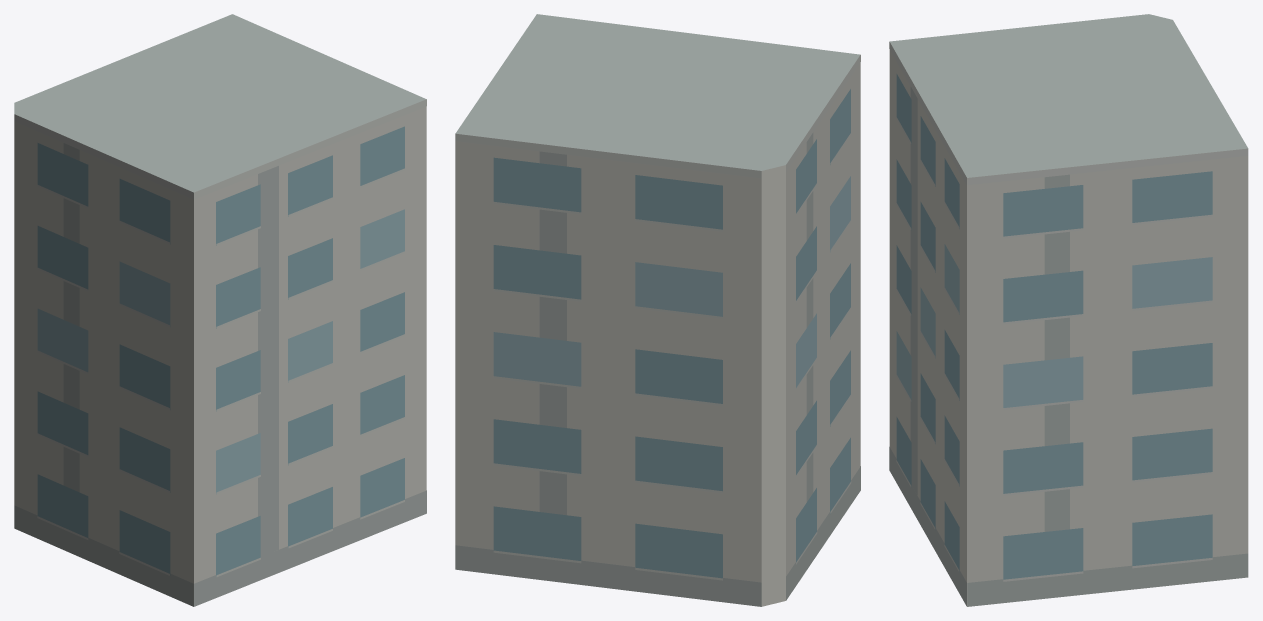
The model's file is survey-upis-32564035.glb.
The picture shows the model from 3 angles, left to right: view 1: azimuth 30°, elevation 25°; view 2: azimuth 150°, elevation 25°; view 3: azimuth 270°, elevation 25°; orthographic projection. The views are drawn at different scales.
Visible parts, largest first — view 1: survey-upis-32564035.tmp; view 2: survey-upis-32564035.tmp; view 3: survey-upis-32564035.tmp.
Part boxes in pixels (x1,y1,x2,y2): survey-upis-32564035.tmp: [14, 14, 426, 606]; survey-upis-32564035.tmp: [455, 14, 860, 606]; survey-upis-32564035.tmp: [889, 14, 1248, 606].
Bounding box in the file's own units: 11.57 × 14.1 × 10.7.
